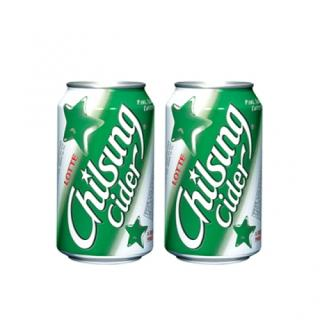chilsung: (54, 76, 156, 268), (165, 78, 265, 266)
